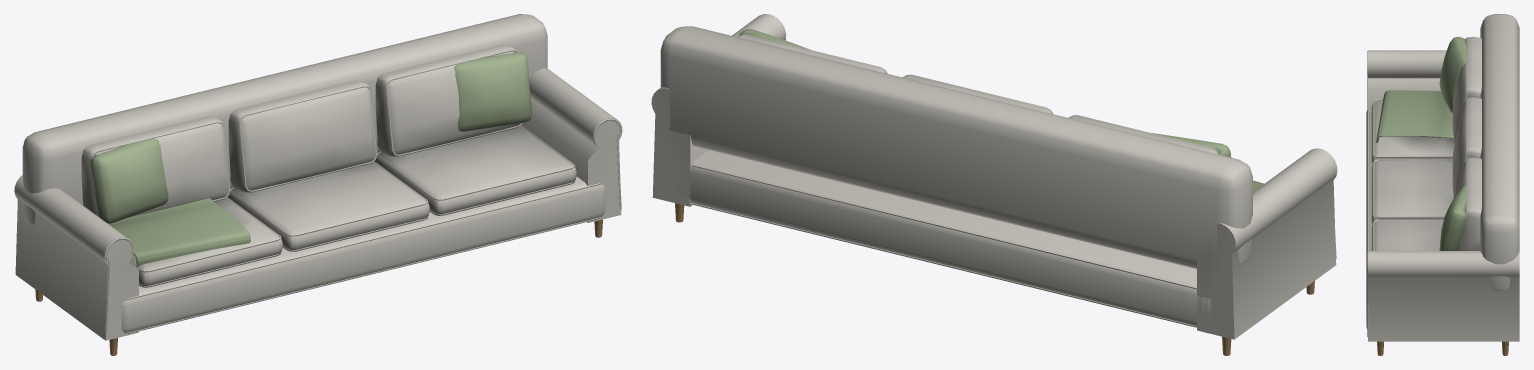
The model's file is sofaThree.glb.
The picture shows the model from 3 angles, left to right: view 1: azimuth 30°, elevation 25°; view 2: azimuth 150°, elevation 25°; view 3: azimuth 270°, elevation 25°; orthographic projection. The views are drawn at different scales.
Parts seen in each view (by area): view 1: sofa, seat; view 2: sofa; view 3: sofa, seat.
Part boxes in pixels (<box>): sofa: <box>14,14,622,355</box>; seat: <box>108,125,576,287</box>; sofa: <box>651,14,1337,355</box>; sofa: <box>1366,14,1519,355</box>; seat: <box>1371,90,1454,250</box>.
Size of the model in its own units: 2.82 by 0.87 by 0.86.
